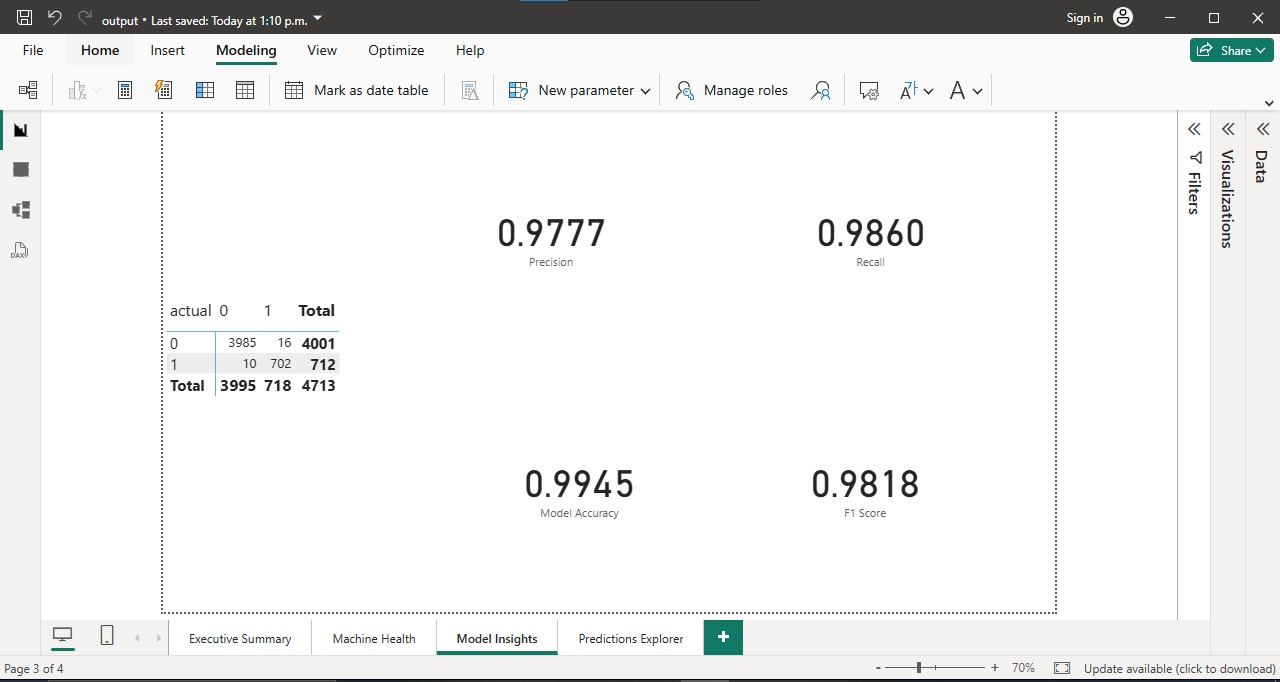

The dashboard page shown, as its layout file describes it:
{"tool":"powerbi","page":{"name":"Model Insights","canvas":[1280,720],"ordinal":2},"visuals":[{"type":"card","fields":{"Values":["cleaned_data.Precision"]},"box":[337,0,439.3,359.8],"z":0},{"type":"card","fields":{"Values":["cleaned_data.Recall"]},"box":[749.8,0,530.2,359.8],"z":1},{"type":"card","fields":{"Values":["cleaned_data.F1 Score"]},"box":[734.7,359.8,545.3,359.8],"z":2},{"type":"card","fields":{"Values":["cleaned_data.Model Accuracy"]},"box":[337,359.8,520.7,359.8],"z":3},{"type":"pivotTable","fields":{"Rows":["test_predictions.actual"],"Columns":["test_predictions.predicted"],"Values":["CountNonNull(test_predictions.test_index)"]},"box":[0,265.1,337,187.5],"z":4}]}

Visuals, with their boxes on the page's 1280x720 design canvas (x1, y1, x2, y2). These are canvas units, not pixel positions in the 1280x682 screenshot, which may show the page scaled, cropped or inside an application window:
card - cleaned_data.Precision: 337,0,776,360
card - cleaned_data.Recall: 750,0,1280,360
card - cleaned_data.F1 Score: 735,360,1280,720
card - cleaned_data.Model Accuracy: 337,360,858,720
pivotTable - test_predictions.actual x test_predictions.predicted: 0,265,337,453
